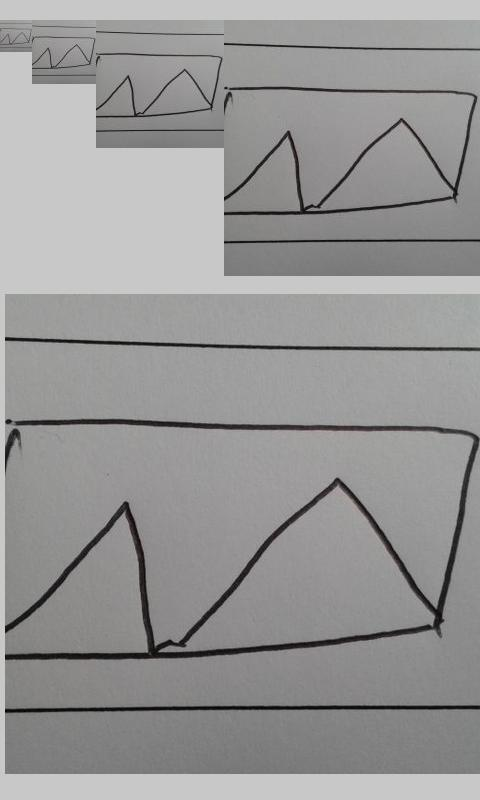image_view: (6, 417, 479, 667), (225, 84, 478, 219), (96, 52, 223, 119), (33, 35, 95, 70), (1, 27, 32, 46)
